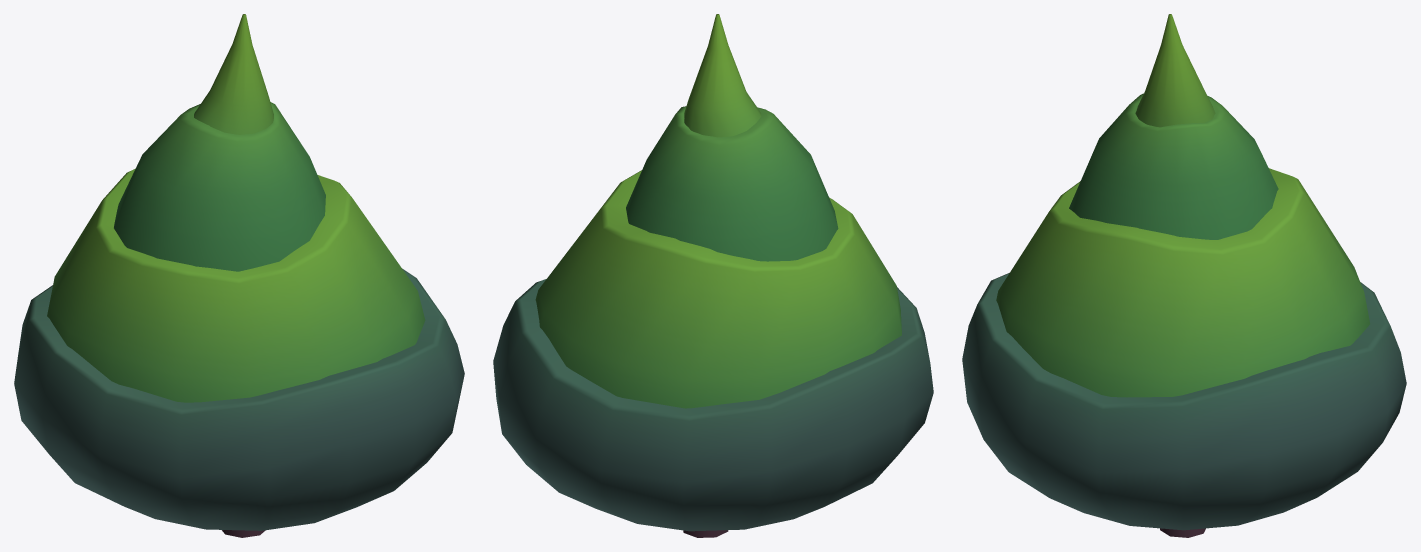
File: tree_pack_03.glb
3 renders of one model, left to right at view 1: azimuth 30°, elevation 25°; view 2: azimuth 150°, elevation 25°; view 3: azimuth 270°, elevation 25°, orthographic.
Parts seen in each view (by area): view 1: Tree.003; view 2: Tree.003; view 3: Tree.003.
Part boxes in pixels (x1=…): Tree.003: x1=14, y1=14, x2=464, y2=537; Tree.003: x1=493, y1=14, x2=933, y2=537; Tree.003: x1=962, y1=14, x2=1406, y2=537.
Size of the model in its own units: 2 by 2.53 by 1.99.
1 material, 1 textured.
